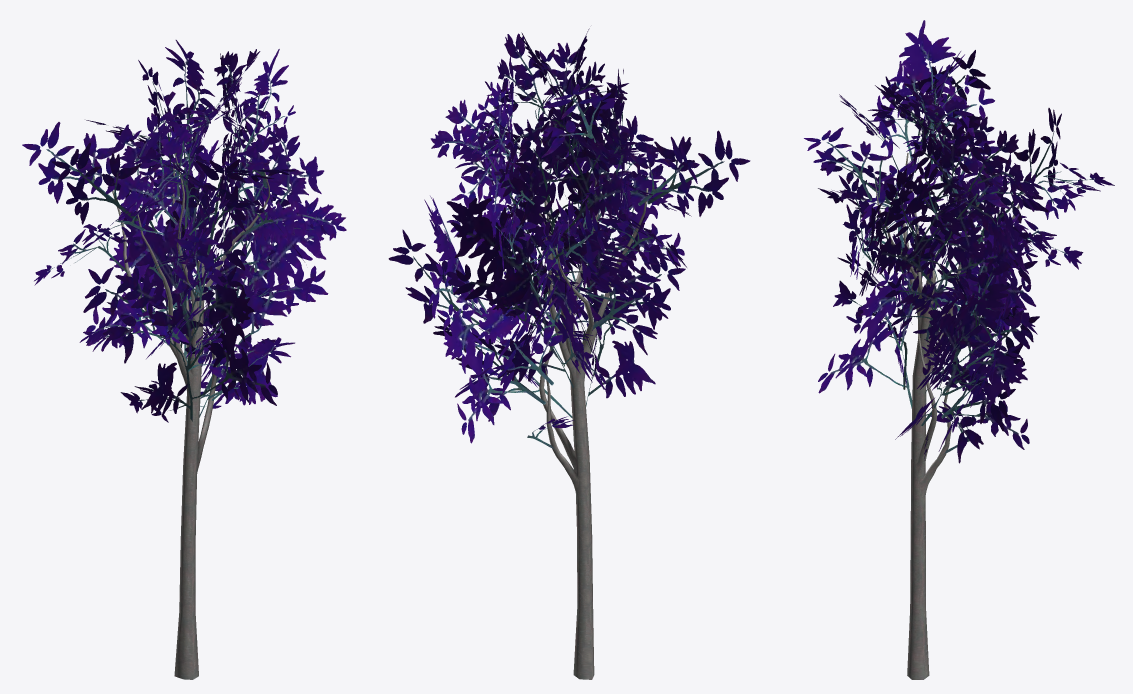
The picture shows the model from 3 angles, left to right: view 1: azimuth 30°, elevation 25°; view 2: azimuth 150°, elevation 25°; view 3: azimuth 270°, elevation 25°; orthographic projection. The views are drawn at different scales.
Visible parts, largest first — view 1: SM_GF_Ash_Sapling_01_LOD0; view 2: SM_GF_Ash_Sapling_01_LOD0; view 3: SM_GF_Ash_Sapling_01_LOD0.
Boxes of the visible parts, left/top/right/bottom form: SM_GF_Ash_Sapling_01_LOD0: left=22, top=40, right=346, bottom=679; SM_GF_Ash_Sapling_01_LOD0: left=388, top=28, right=750, bottom=679; SM_GF_Ash_Sapling_01_LOD0: left=804, top=20, right=1114, bottom=679.
Bounding box in the file's own units: 1.13 × 2.4 × 1.1.
Materials: 2 (2 with a texture image).
